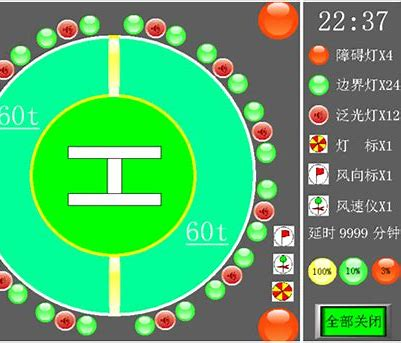H: (68, 146, 163, 208)
